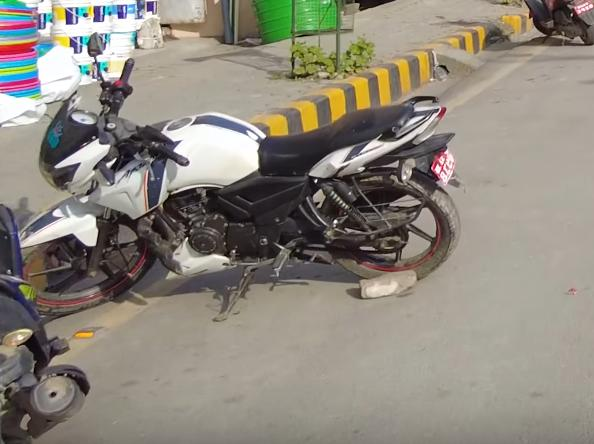bike: (14, 27, 477, 312)
